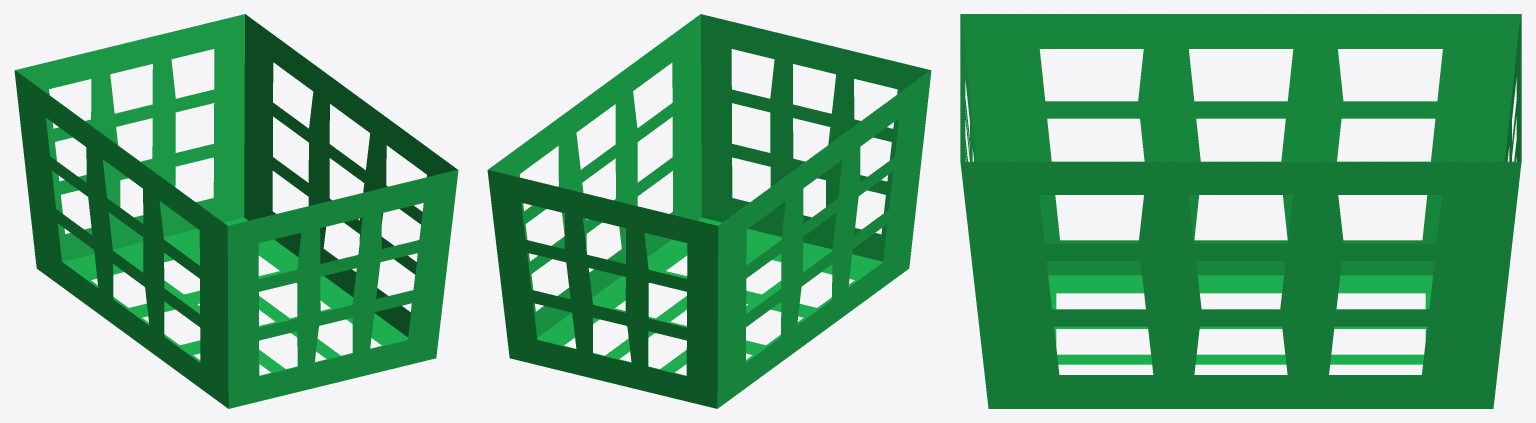
File: Strawberry_Basket_Mesh.fbx
3 views of the same model, side by side, from view 1: azimuth 30°, elevation 25°; view 2: azimuth 150°, elevation 25°; view 3: azimuth 270°, elevation 25° (orthographic). The views are drawn at different scales.
Visible parts, largest first — view 1: Cube; view 2: Cube; view 3: Cube.
Boxes of the visible parts, <box> form: Cube: <box>14,14,458,408</box>; Cube: <box>487,14,931,408</box>; Cube: <box>960,14,1521,408</box>.
Size of the model in its own units: 250 by 200 by 400.
